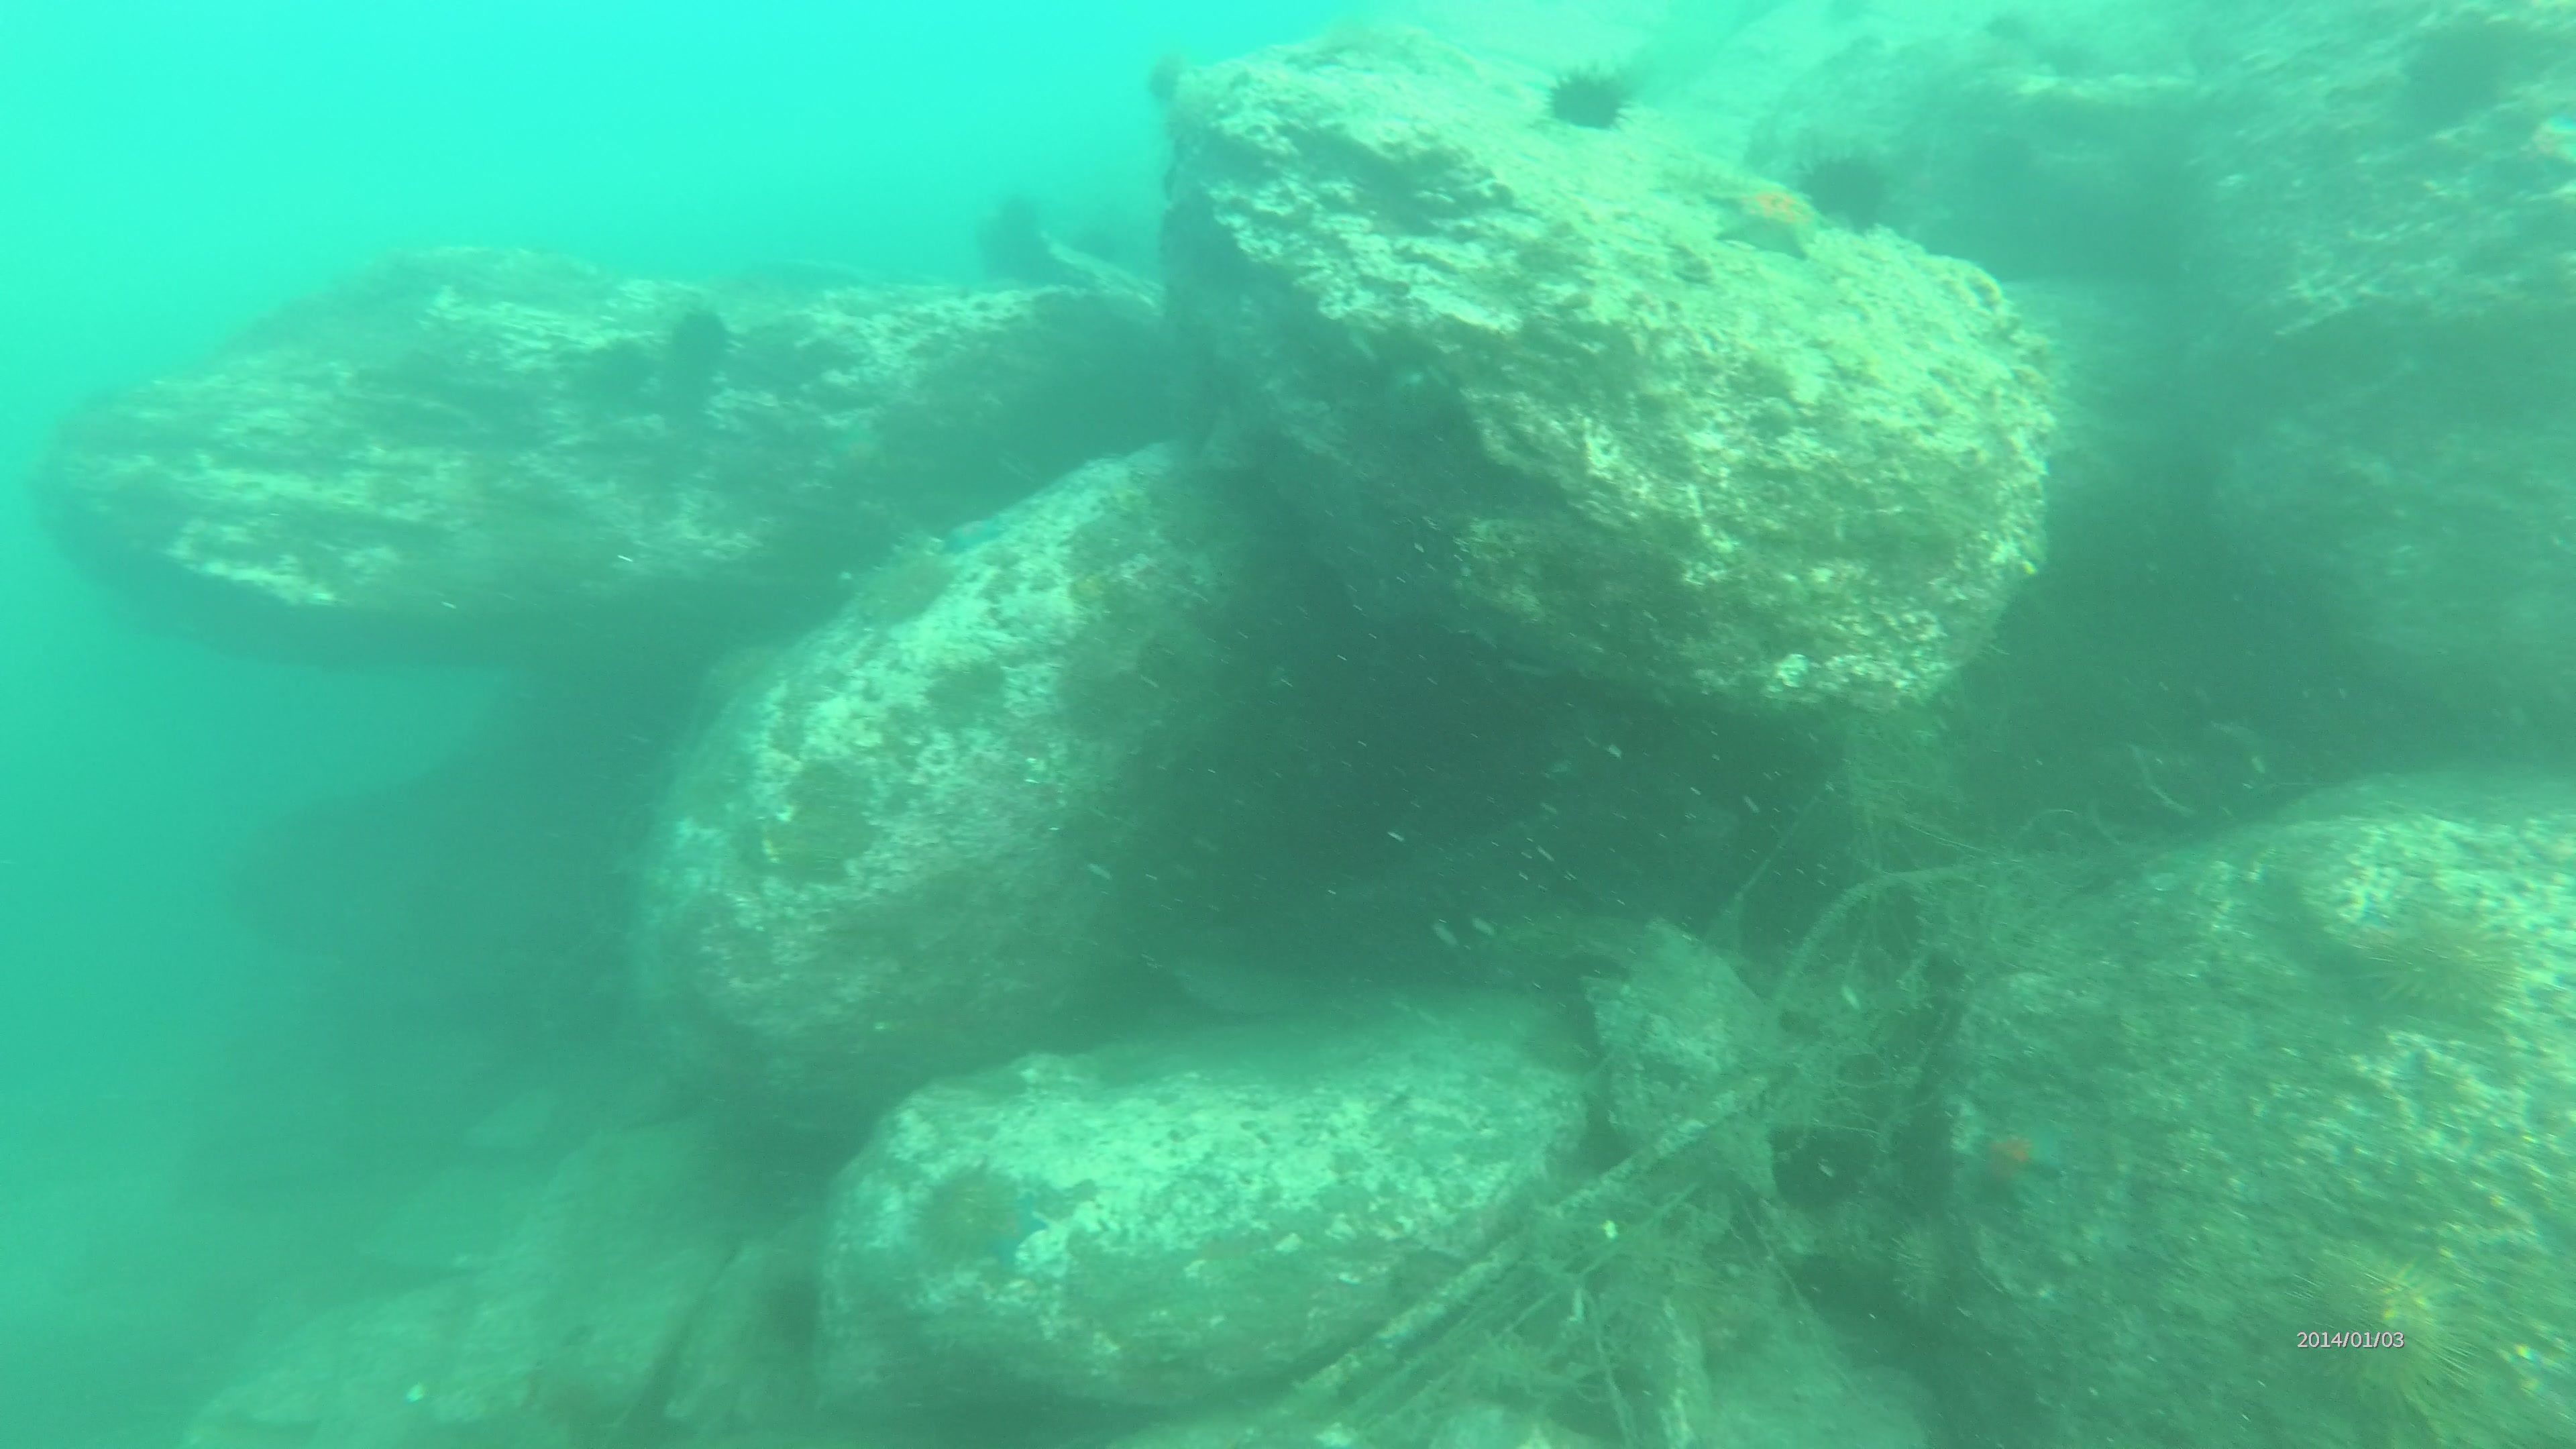echinus: (2298, 1246, 2482, 1426), (2371, 909, 2537, 1028), (1884, 1223, 1985, 1323), (2406, 25, 2505, 117), (1790, 147, 1898, 230), (911, 1180, 1008, 1261), (1548, 64, 1644, 133), (586, 338, 663, 396), (665, 304, 729, 370)
starfish: (1702, 170, 1826, 260), (1974, 1113, 2068, 1192)
